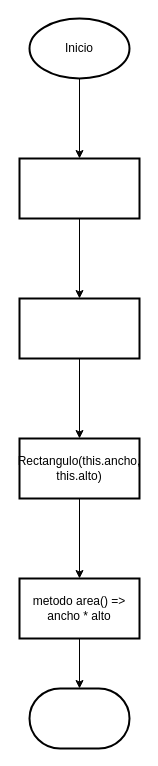
This 158x766 diagram has some shape labels left out. Each missing label, with the centre of its shape:
"Clase Rectangulo(ancho,alto)" belongs at point (79, 188).
"Propiedades double ancho; double alto;" belongs at point (79, 328).
